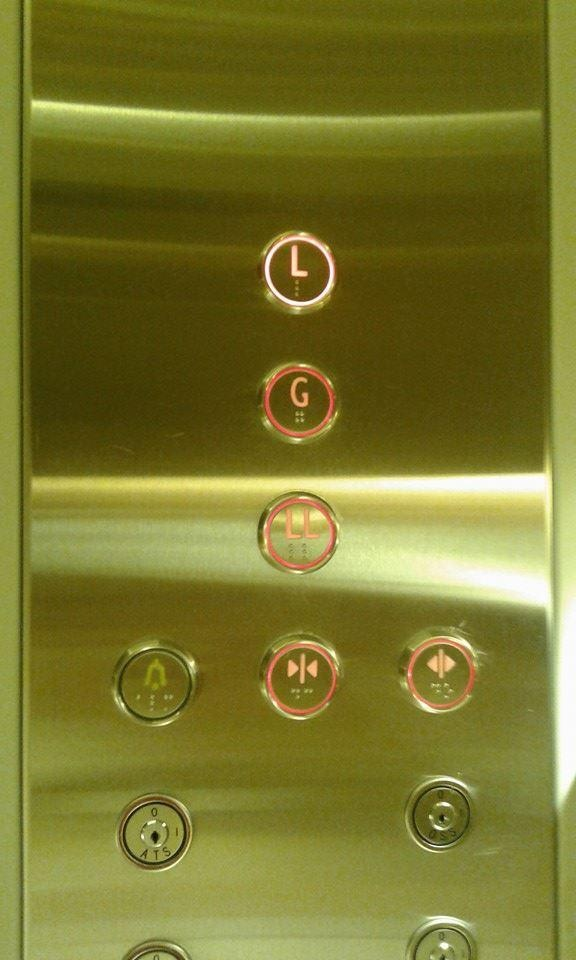G: (259, 360, 343, 448)
L: (256, 229, 338, 314)
LL: (257, 491, 340, 574)
alarm: (110, 641, 203, 727)
close: (255, 629, 343, 721)
keyhole: (115, 795, 193, 871), (406, 774, 480, 854), (402, 916, 485, 960)
open: (393, 626, 482, 716)
